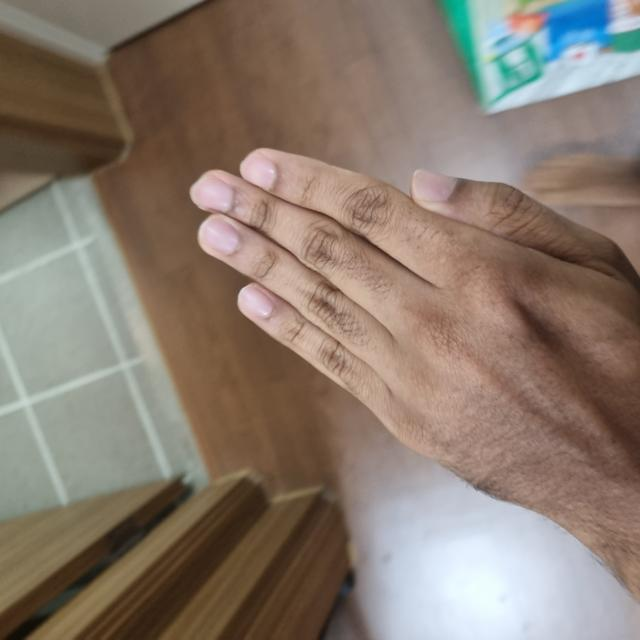Paper: (124, 210, 485, 639)
